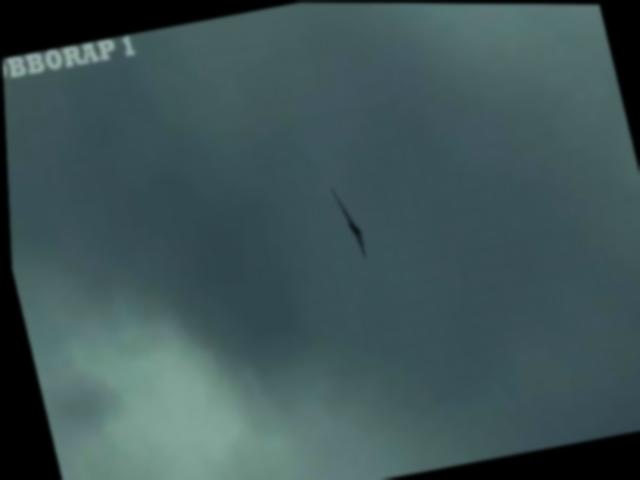flying wing: (326, 184, 368, 267)
